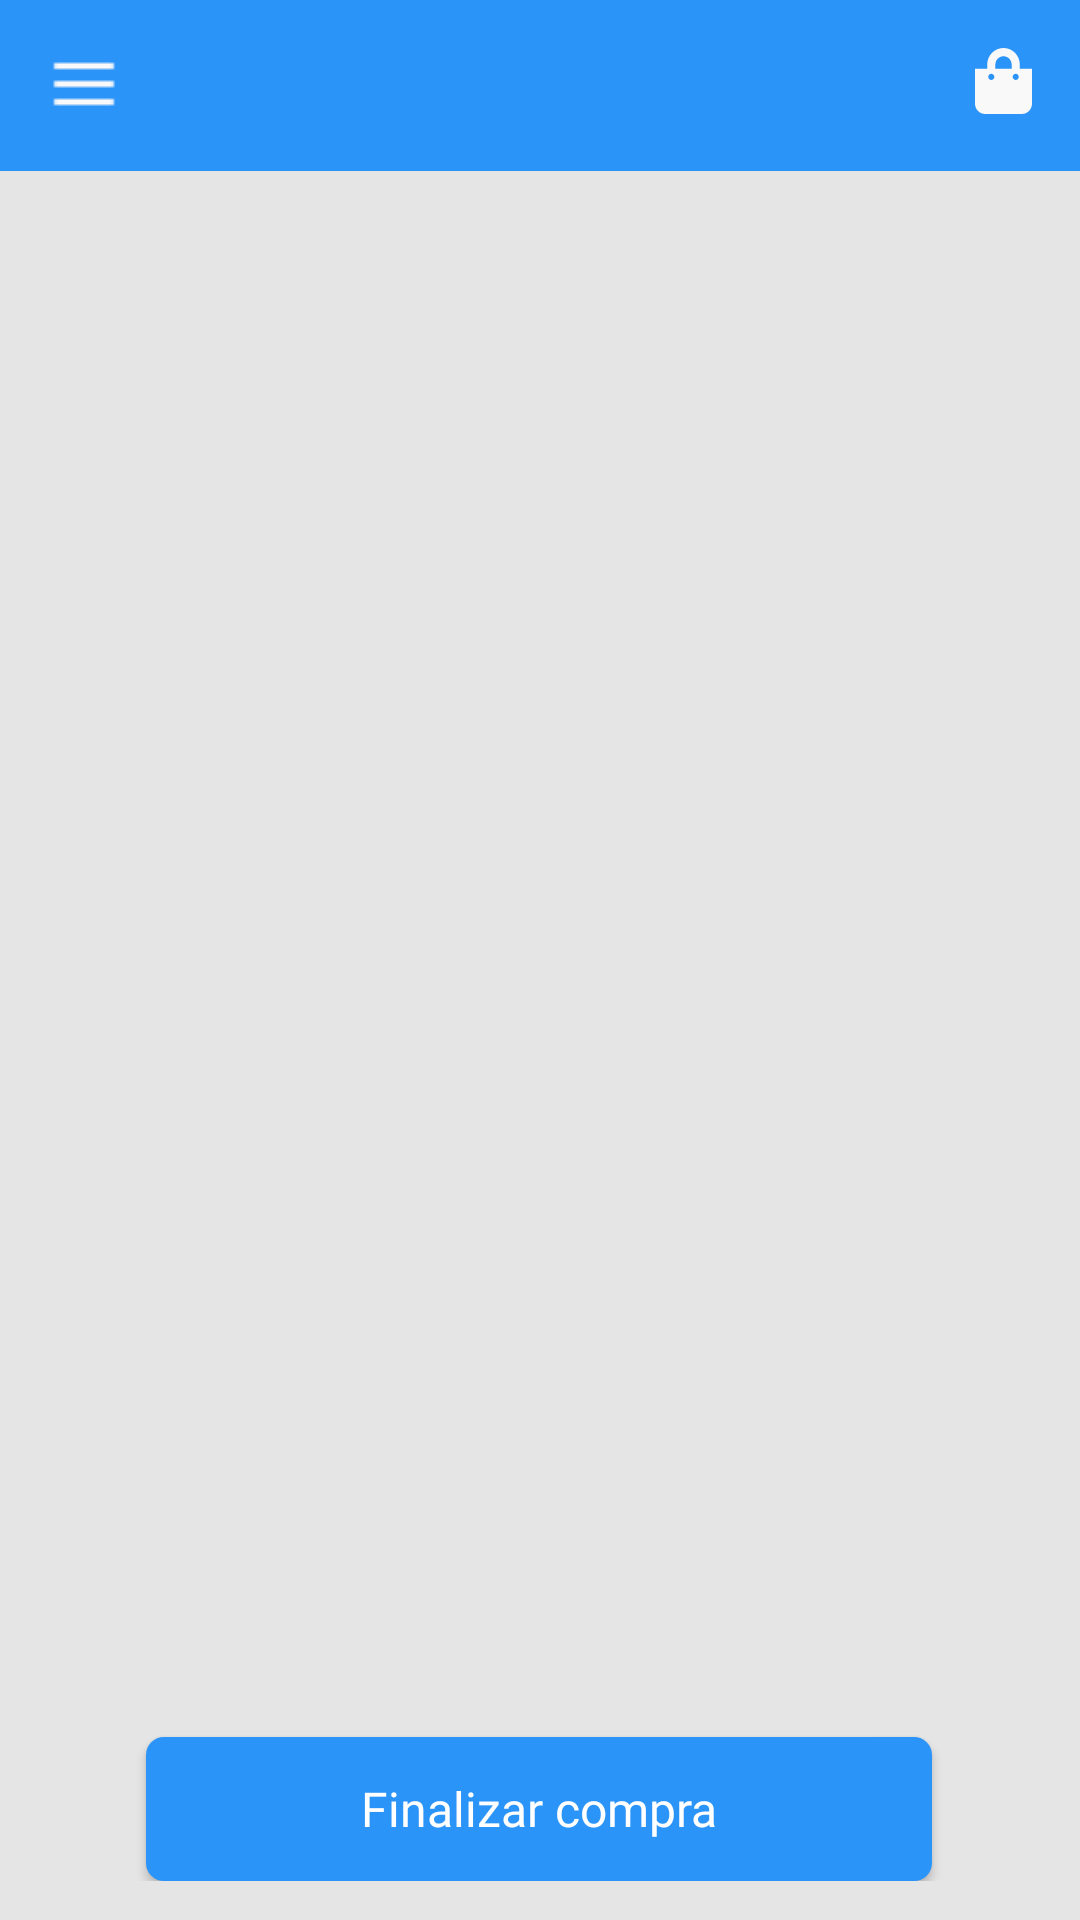

Icon click points for this 1080 × 1920 phone screenshot, format (x=x, y=y):
shopping bag: (x=1003, y=81)
